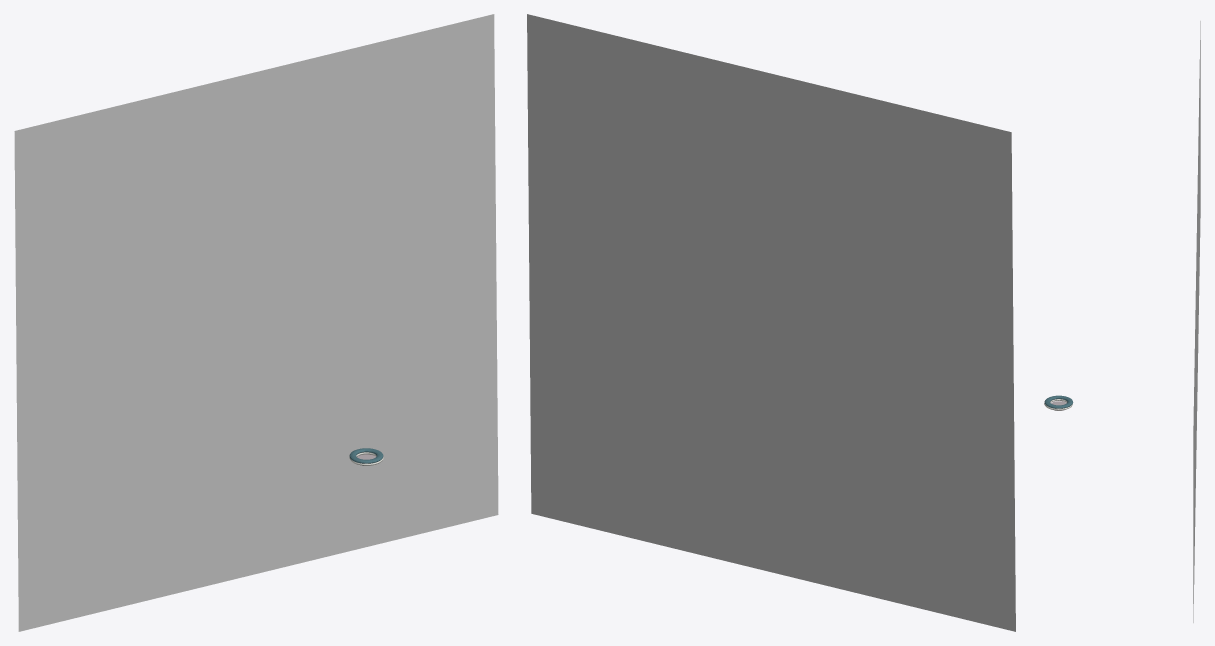
Rendered from platodesopa.fbx.
3 renders of one model, left to right at view 1: azimuth 30°, elevation 25°; view 2: azimuth 150°, elevation 25°; view 3: azimuth 270°, elevation 25°, orthographic. The views are drawn at different scales.
Parts seen in each view (by area): view 1: Plane; view 2: Plane; view 3: Plane, Torus.001.
Boxes of the visible parts, bbox=[...] form: Plane: bbox=[14, 14, 498, 631]; Plane: bbox=[527, 14, 1015, 631]; Plane: bbox=[1193, 21, 1200, 622]; Torus.001: bbox=[1044, 395, 1073, 408].
Size of the model in its own units: 4082 by 4047 by 1363.
